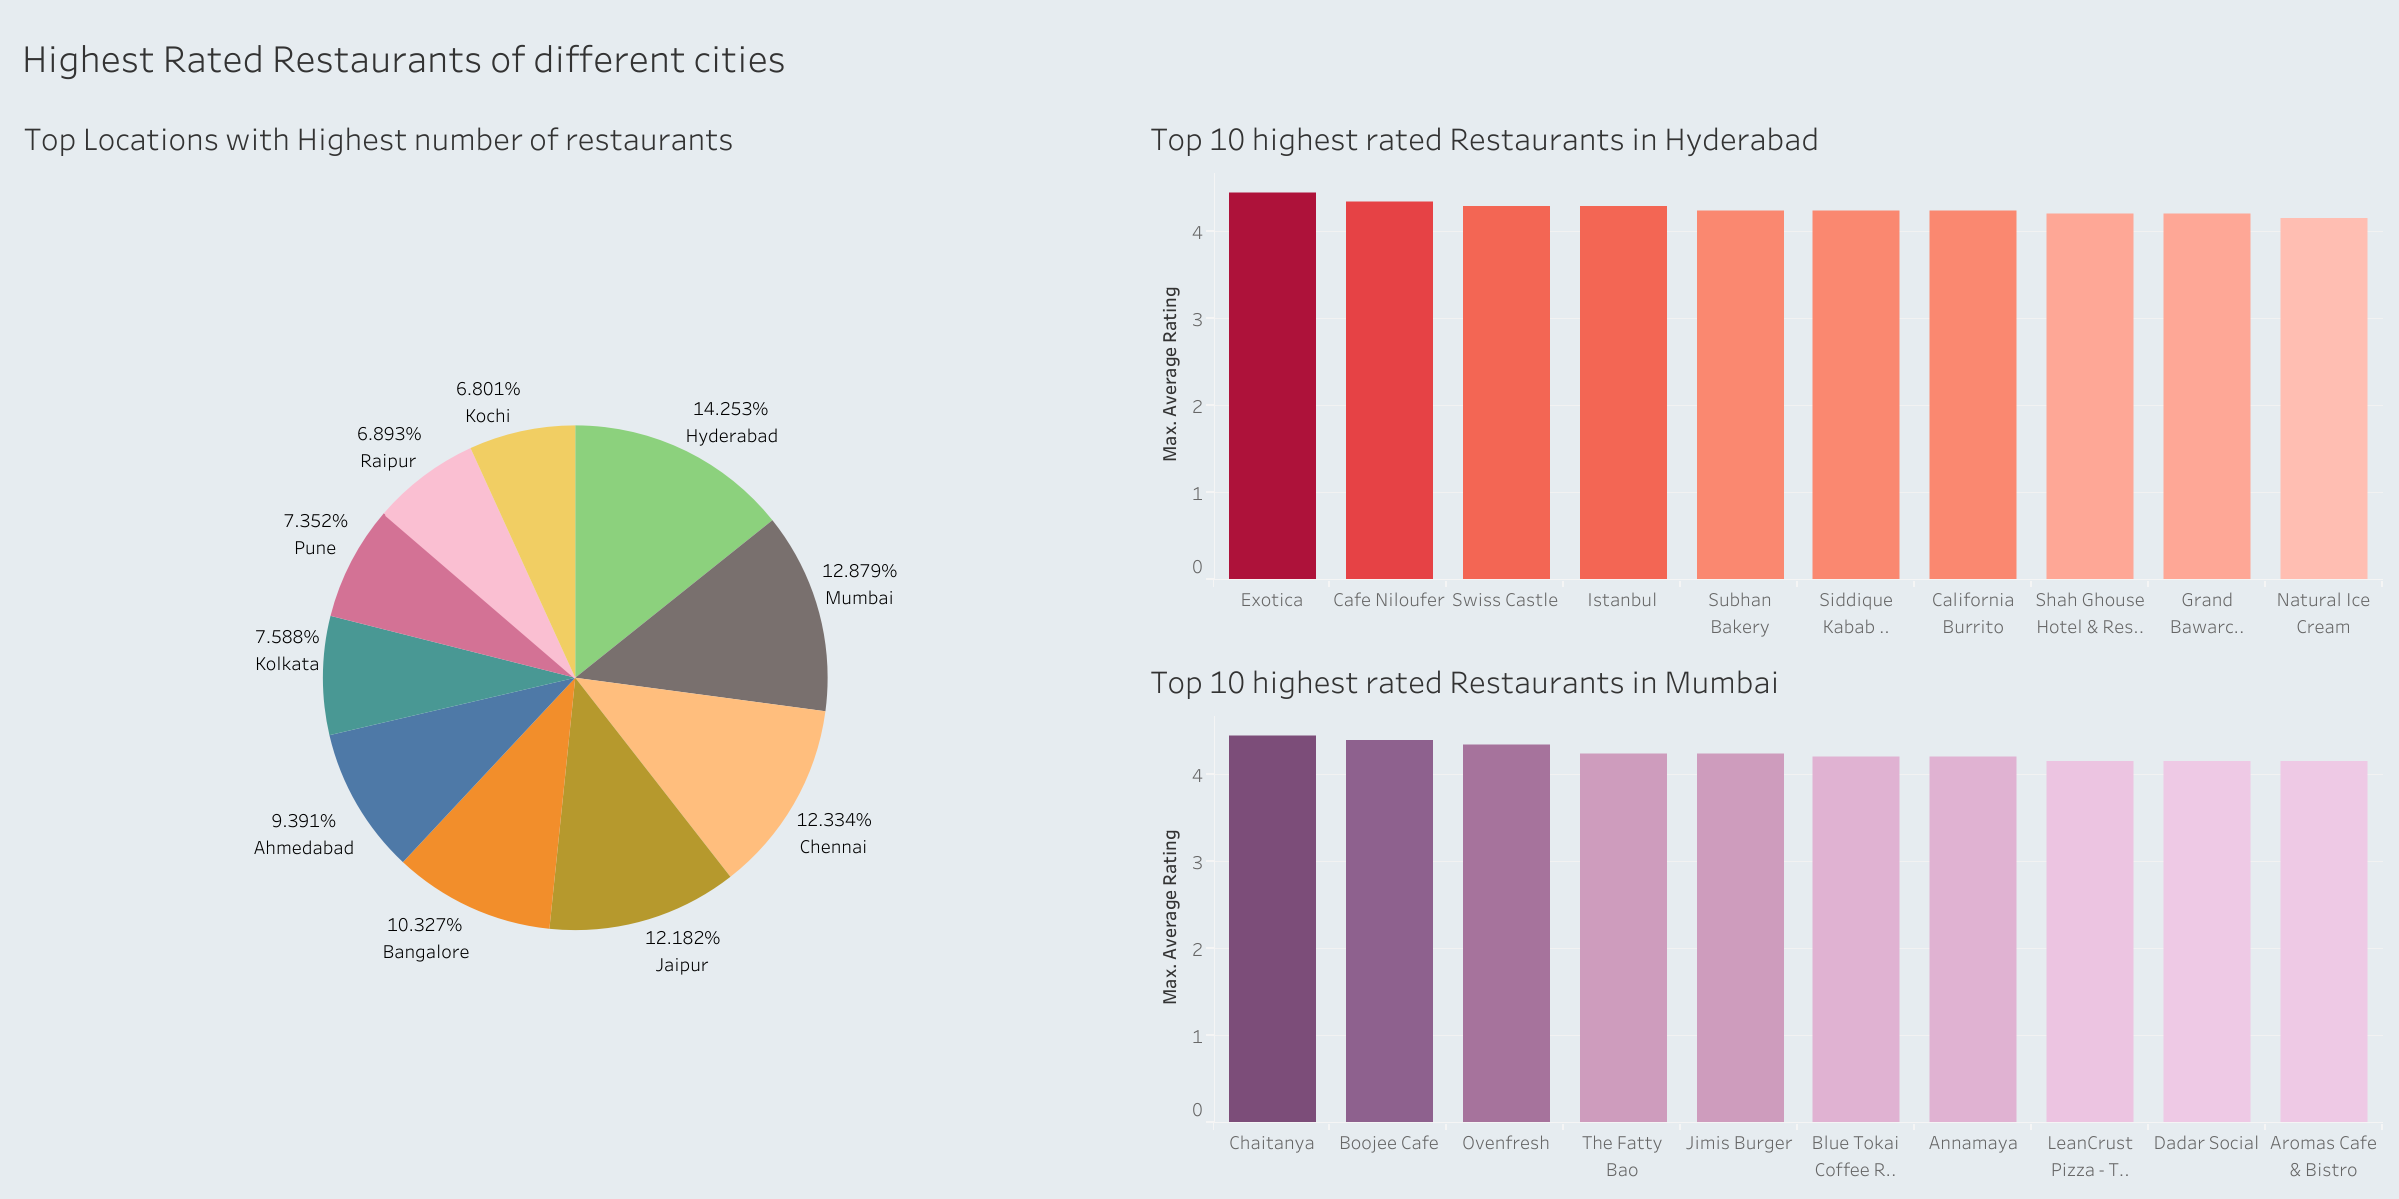

Layout of this report page (visuals, bound fields, positions):
{"tool":"tableau","page":{"name":"Dashboard 1","canvas":[1600,800],"ordinal":0},"visuals":[{"type":"title","box":[8,8,1584,60]},{"type":"worksheet","title":"Sheet 1","mark":"Pie","box":[8,68,751,724]},{"type":"worksheet","title":"Sheet 4","mark":"Automatic","rows":["Average Rating"],"cols":["Restaurant Name"],"box":[759,68,833,362]},{"type":"worksheet","title":"Sheet 5","mark":"Automatic","rows":["Average Rating"],"cols":["Restaurant Name"],"box":[759,430,833,362]}]}

Visuals, with their boxes in screenshot pixels (x1, y1, x2, y2), scaled from the page's 1600x800 canvas onto the 2399x1199 screenshot:
title: locate(12, 12, 2387, 102)
"Sheet 1" worksheet (Pie marks): locate(12, 102, 1138, 1187)
"Sheet 4" worksheet: locate(1138, 102, 2387, 644)
"Sheet 5" worksheet: locate(1138, 644, 2387, 1187)
